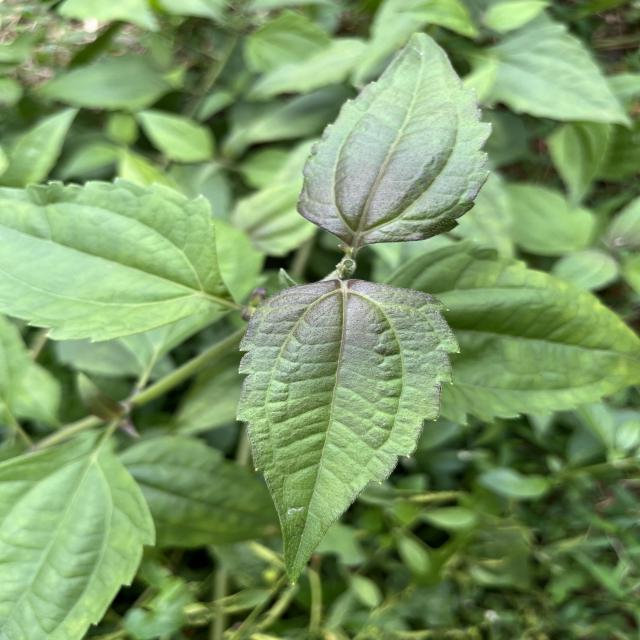Chromolaena odorata: (230, 274, 466, 590), (292, 27, 498, 249)
